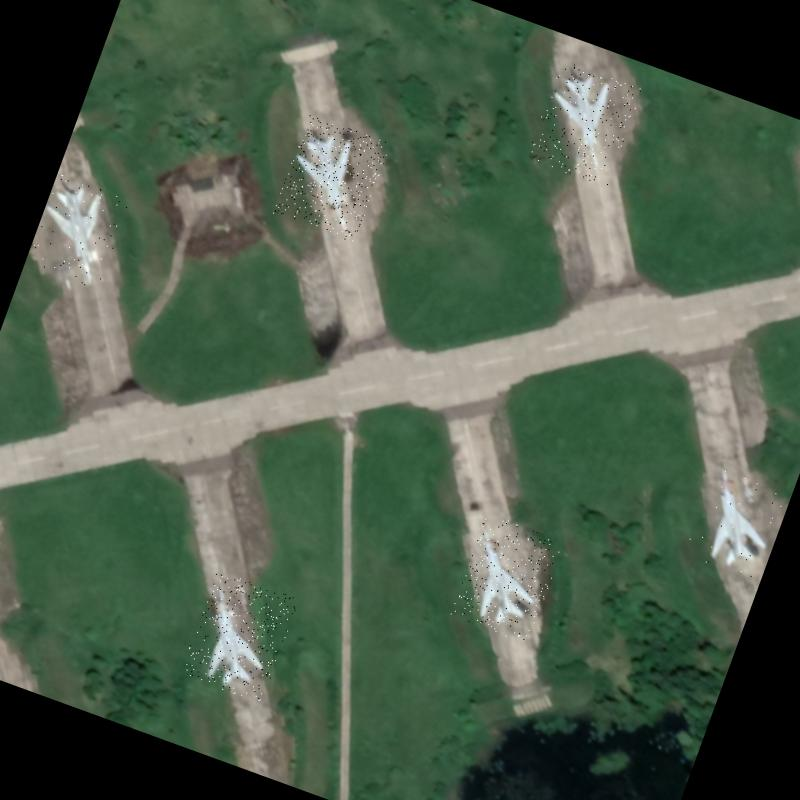A12: (179, 568, 299, 704), (448, 512, 566, 644), (272, 114, 390, 242), (525, 60, 642, 188), (683, 454, 795, 582), (24, 174, 131, 294)
